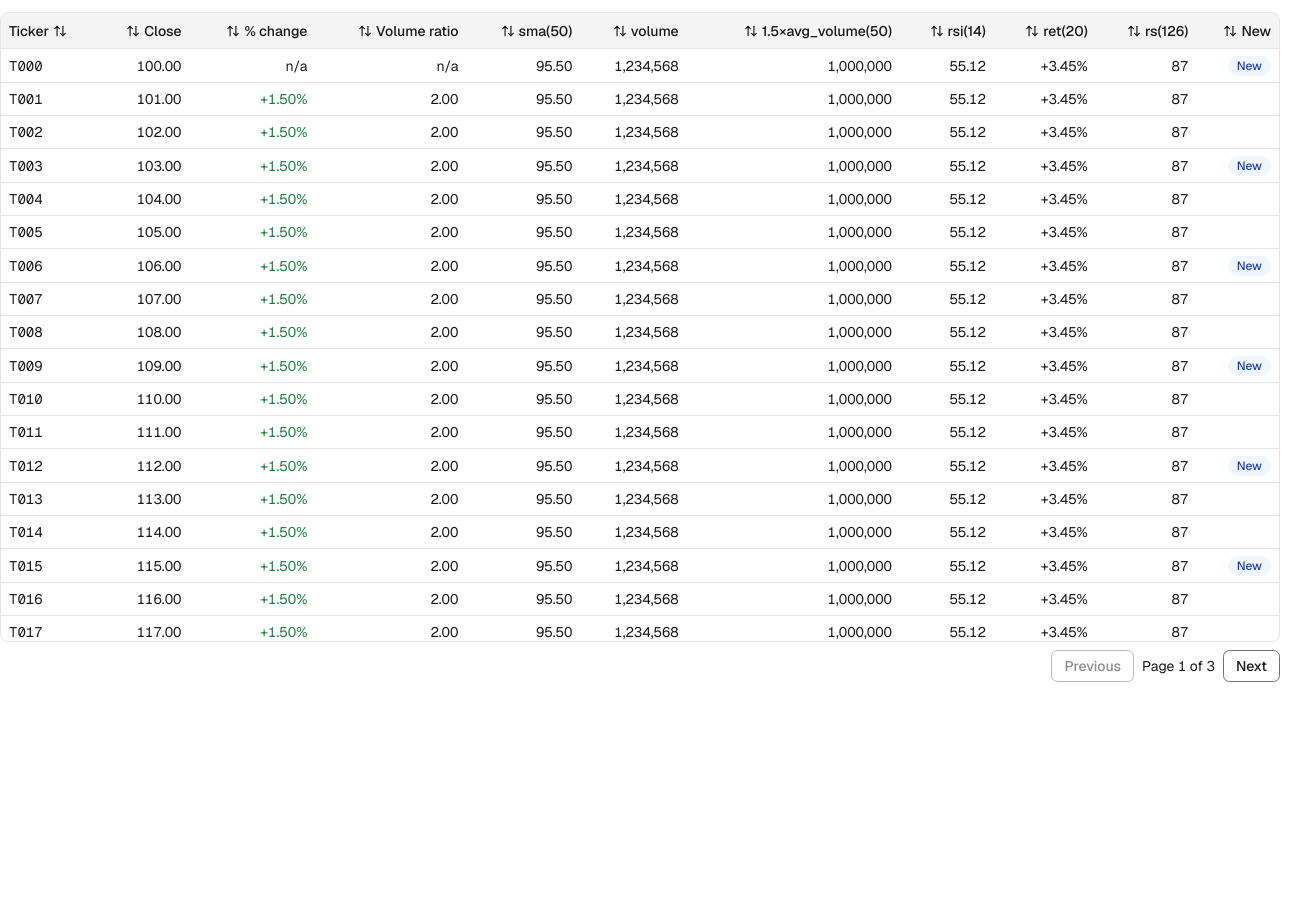
Test case: ResultsTable › pages at 50 rows and returns to page 1 when you sort
Expected: the text "Page 1 of 3" is shown, [1142,656,1215,676]
Click the button "Next" at (1251, 666), box [1223,650,1280,682]
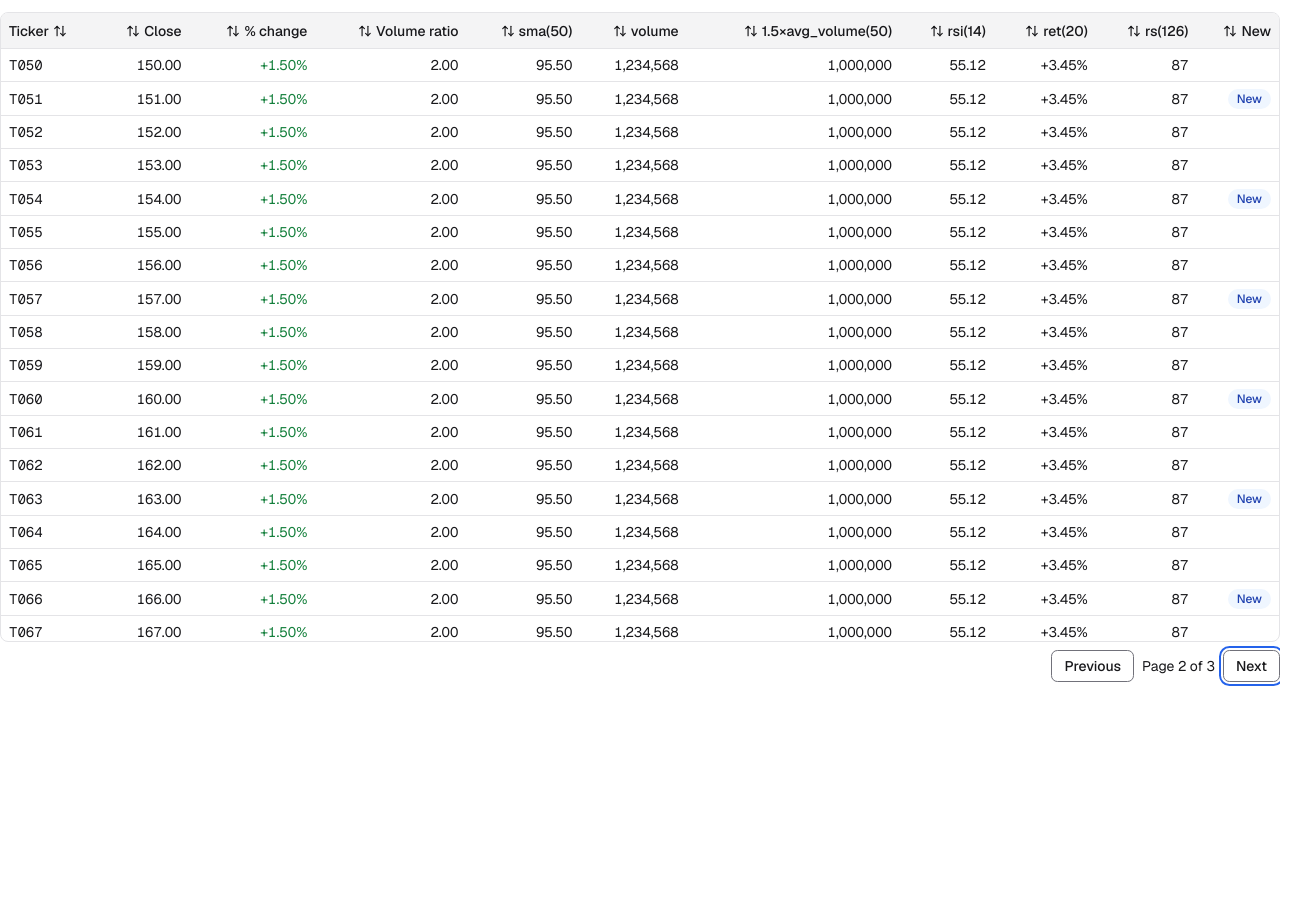
Result: the text "Page 2 of 3" is shown at [1142,656,1215,676]
Result: the cell "T050" is shown at [1,49,97,82]
Click the button "% change" at (267, 30), box [226,14,307,46]
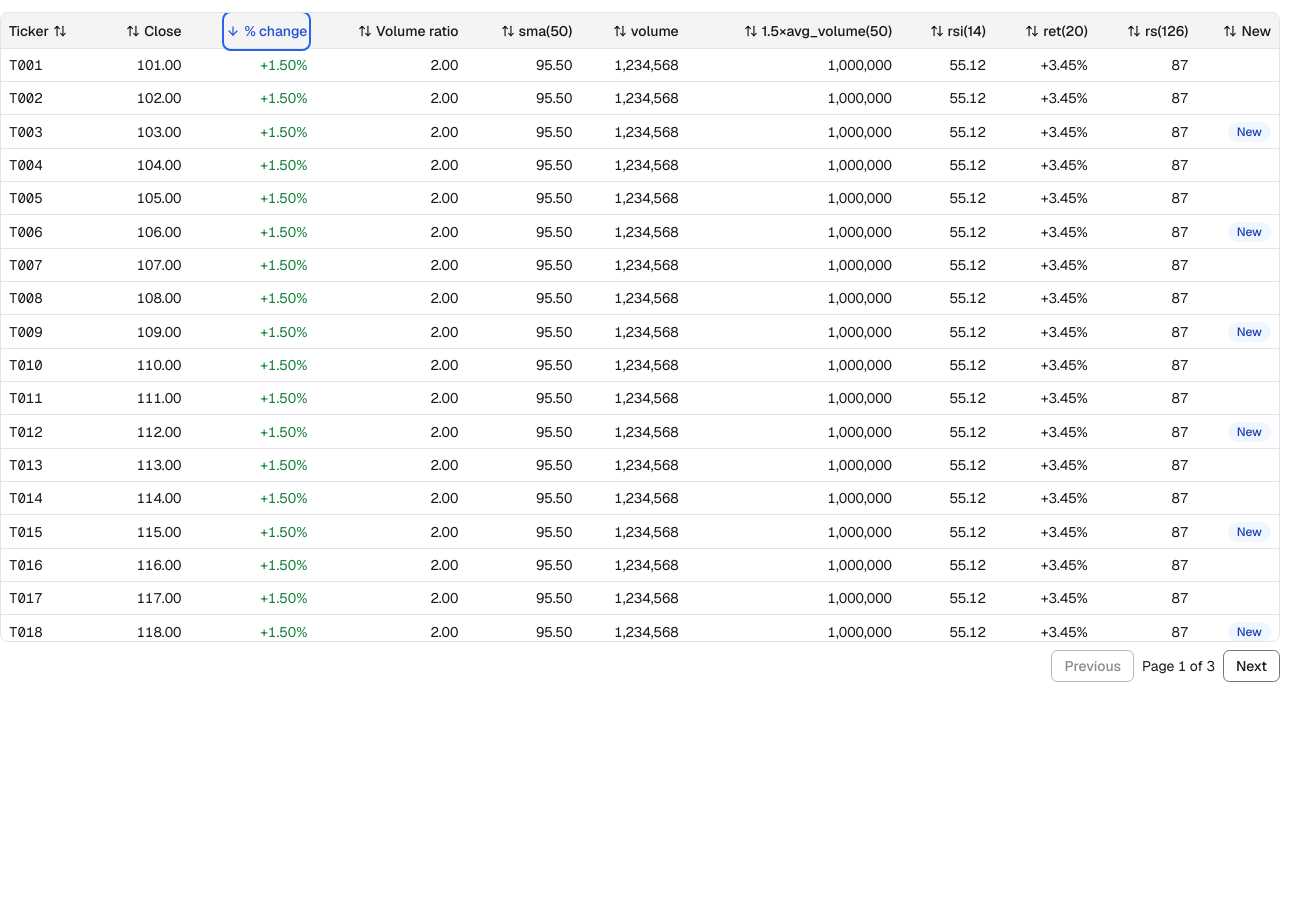
Result: the text "Page 1 of 3" is shown at [1142,656,1215,676]
